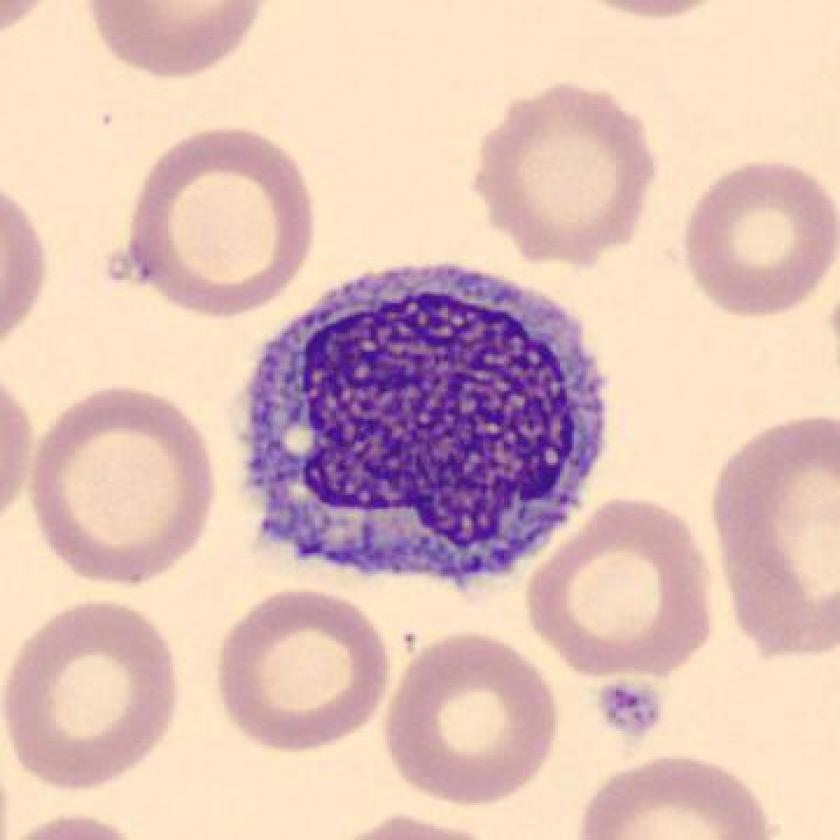monocyte: (216, 246, 633, 610)
